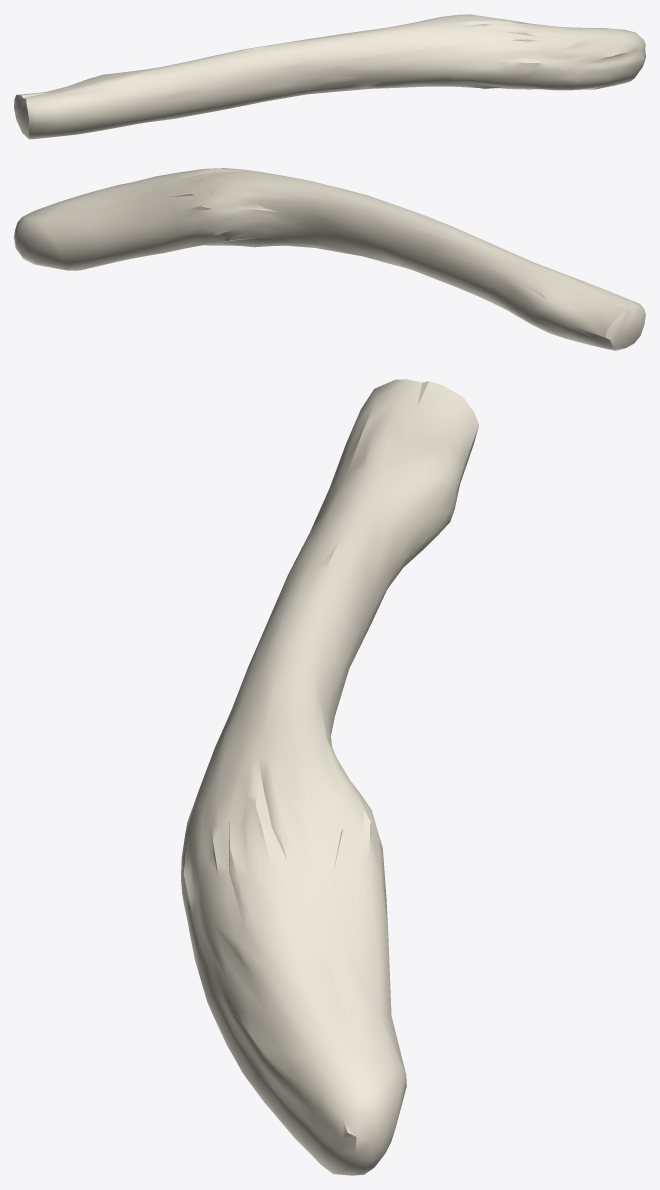
The model's file is fma44661_mm1403m.glb.
The picture shows the model from 3 angles, top to bottom: view 1: azimuth 30°, elevation 25°; view 2: azimuth 150°, elevation 25°; view 3: azimuth 270°, elevation 25°; orthographic projection. The views are drawn at different scales.
Parts seen in each view (by area): view 1: FMA44661_MM1403M; view 2: FMA44661_MM1403M; view 3: FMA44661_MM1403M.
Boxes of the visible parts, <box> form: FMA44661_MM1403M: <box>14,14,645,139</box>; FMA44661_MM1403M: <box>14,168,645,350</box>; FMA44661_MM1403M: <box>181,379,478,1175</box>.
Bounding box in the file's own units: 0.0504 × 0.01 × 0.0107.
